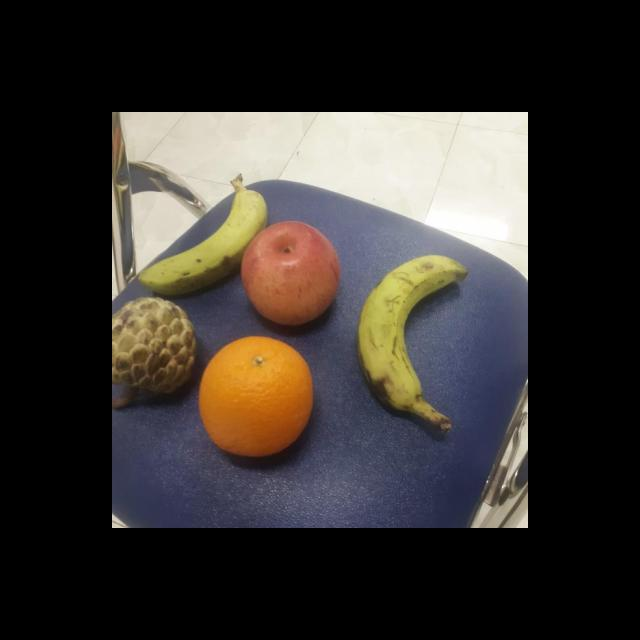Sakya fruit: (112, 294, 202, 395)
apple: (239, 220, 343, 327)
banana: (356, 248, 469, 412), (138, 186, 270, 294)
orange: (198, 334, 314, 459)
